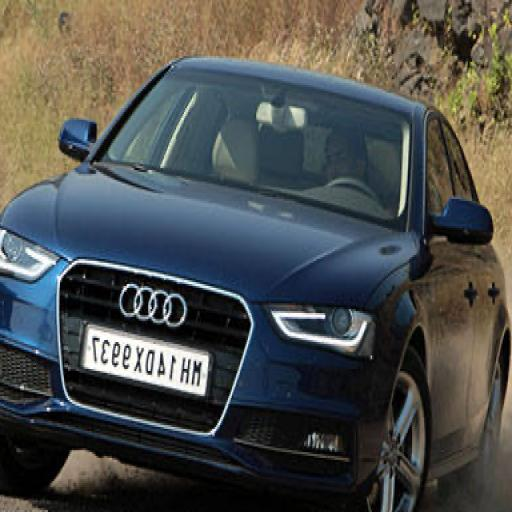License: (76, 319, 211, 406)
